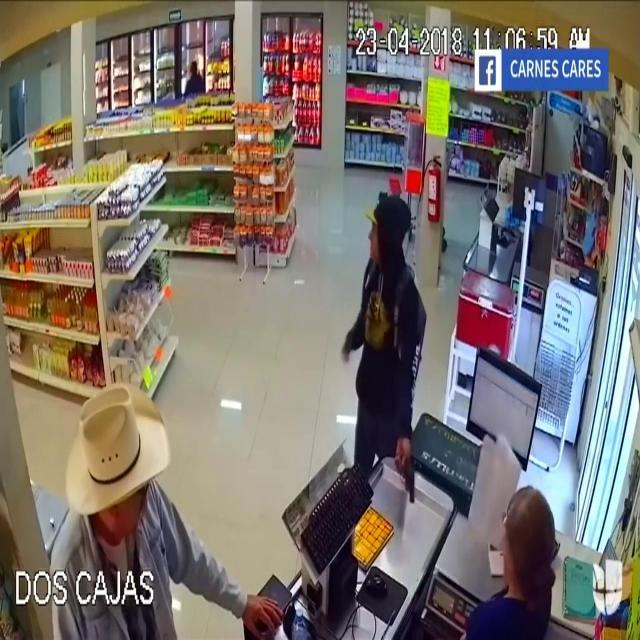Gun: (392, 440, 428, 516)
